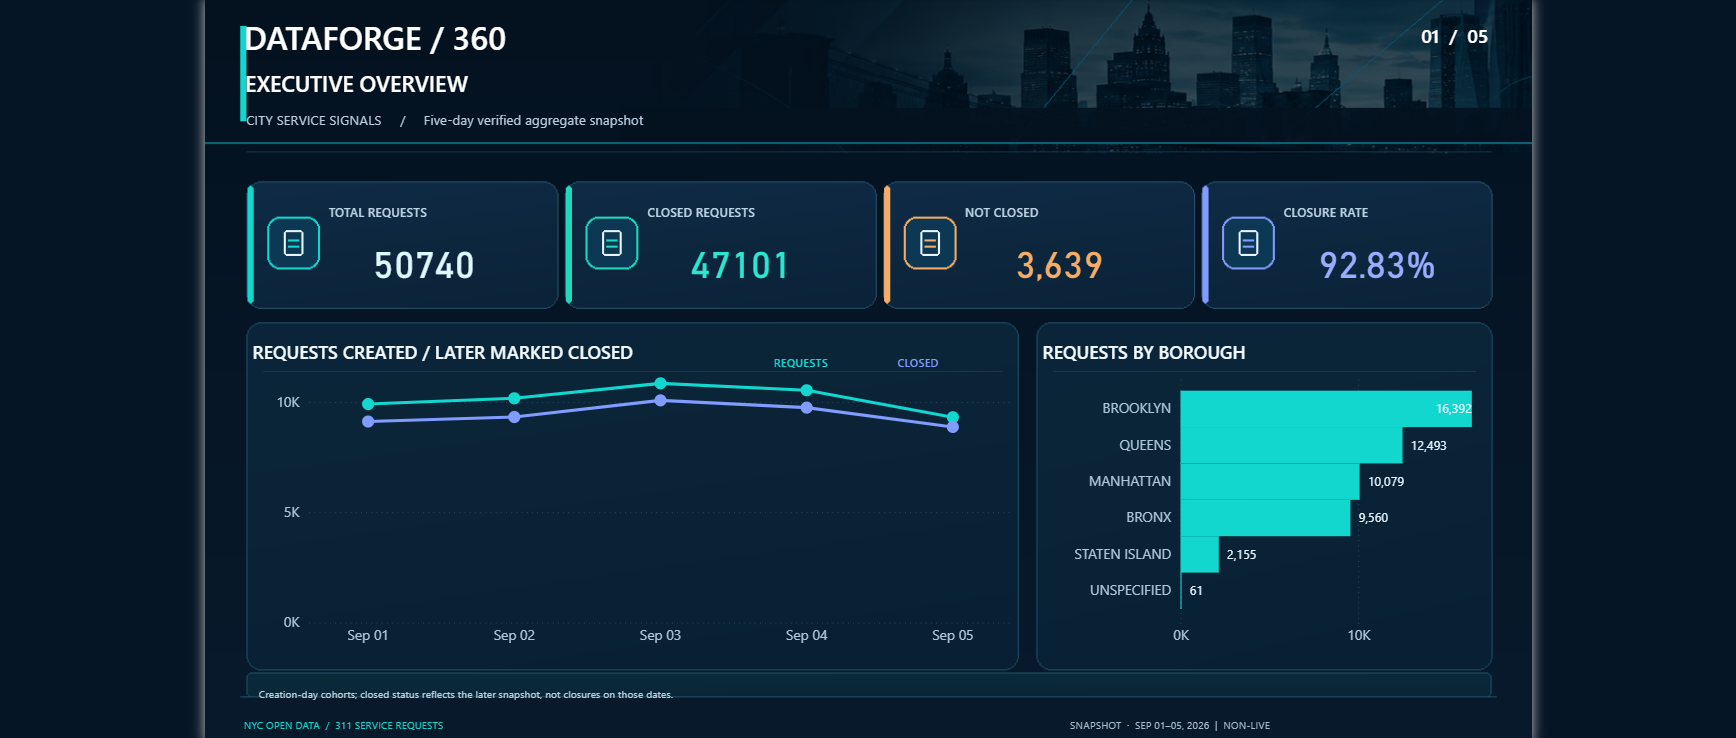

The dashboard page shown, as its layout file describes it:
{"tool":"powerbi","page":{"name":"Executive Overview","canvas":[1280,720],"ordinal":0},"visuals":[{"type":"textbox","box":[37,17,700,45],"z":5},{"type":"textbox","box":[39,69,960,32],"z":6},{"type":"textbox","box":[40,108,1040,25],"z":7},{"type":"textbox","box":[1160,24,91,29],"z":8},{"type":"textbox","box":[37,691,570,23],"z":9},{"type":"textbox","box":[835,691,403,23],"z":10},{"type":"textbox","box":[120,197,190,27],"z":35},{"type":"textbox","box":[427,197,190,27],"z":36},{"type":"textbox","box":[734,197,190,27],"z":37},{"type":"textbox","box":[1041,197,190,27],"z":38},{"type":"card","fields":{"Values":["daily.Total Requests"]},"box":[117,218,188,73],"z":60},{"type":"card","fields":{"Values":["daily.Closed Requests"]},"box":[424,218,188,73],"z":61},{"type":"card","fields":{"Values":["daily.Not Closed Requests"]},"box":[731,218,188,73],"z":62},{"type":"card","fields":{"Values":["daily.Closure Rate"]},"box":[1038,218,188,73],"z":63},{"type":"lineChart","title":"REQUESTS CREATED / LATER MARKED CLOSED","fields":{"Category":["daily.day_label"],"Y":["daily.Total Requests","daily.Closed Requests"]},"box":[40,323,744,326],"z":91},{"type":"barChart","title":"REQUESTS BY BOROUGH","fields":{"Category":["borough.label"],"Y":["borough.Borough Requests"]},"box":[802,323,438,326],"z":92},{"type":"textbox","box":[549,341,100,28],"z":131},{"type":"textbox","box":[668,341,100,28],"z":133},{"type":"textbox","box":[52,661,1140,19],"z":160}]}

Visuals, with their boxes on the page's 1280x720 design canvas (x1, y1, x2, y2). These are canvas units, not pixel positions in the 1736x738 screenshot, which may show the page scaled, cropped or inside an application window:
textbox: select_region(37, 17, 737, 62)
textbox: select_region(39, 69, 999, 101)
textbox: select_region(40, 108, 1080, 133)
textbox: select_region(1160, 24, 1251, 53)
textbox: select_region(37, 691, 607, 714)
textbox: select_region(835, 691, 1238, 714)
textbox: select_region(120, 197, 310, 224)
textbox: select_region(427, 197, 617, 224)
textbox: select_region(734, 197, 924, 224)
textbox: select_region(1041, 197, 1231, 224)
card - daily.Total Requests: select_region(117, 218, 305, 291)
card - daily.Closed Requests: select_region(424, 218, 612, 291)
card - daily.Not Closed Requests: select_region(731, 218, 919, 291)
card - daily.Closure Rate: select_region(1038, 218, 1226, 291)
"REQUESTS CREATED / LATER MARKED CLOSED" lineChart: select_region(40, 323, 784, 649)
"REQUESTS BY BOROUGH" barChart: select_region(802, 323, 1240, 649)
textbox: select_region(549, 341, 649, 369)
textbox: select_region(668, 341, 768, 369)
textbox: select_region(52, 661, 1192, 680)
